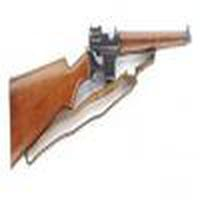gun: (1, 23, 198, 166)
